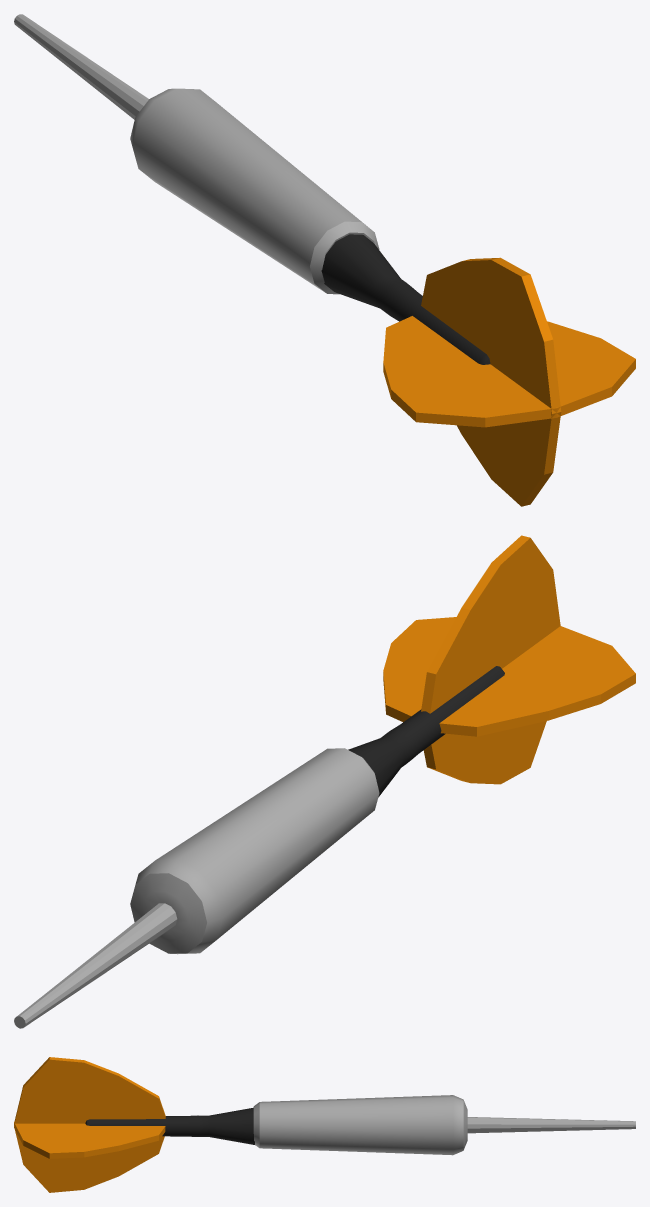
Rendered from Darts.fbx.
3 renders of one model, top to bottom at view 1: azimuth 30°, elevation 25°; view 2: azimuth 150°, elevation 25°; view 3: azimuth 270°, elevation 25°, orthographic. The views are drawn at different scales.
Visible parts, largest first — view 1: Darts; view 2: Darts; view 3: Darts.
Boxes of the visible parts, <box> form: Darts: <box>14,14,635,506</box>; Darts: <box>14,535,635,1028</box>; Darts: <box>14,1057,635,1192</box>.
Bounding box in the file's own units: 4.87 × 4.87 × 20.6.
